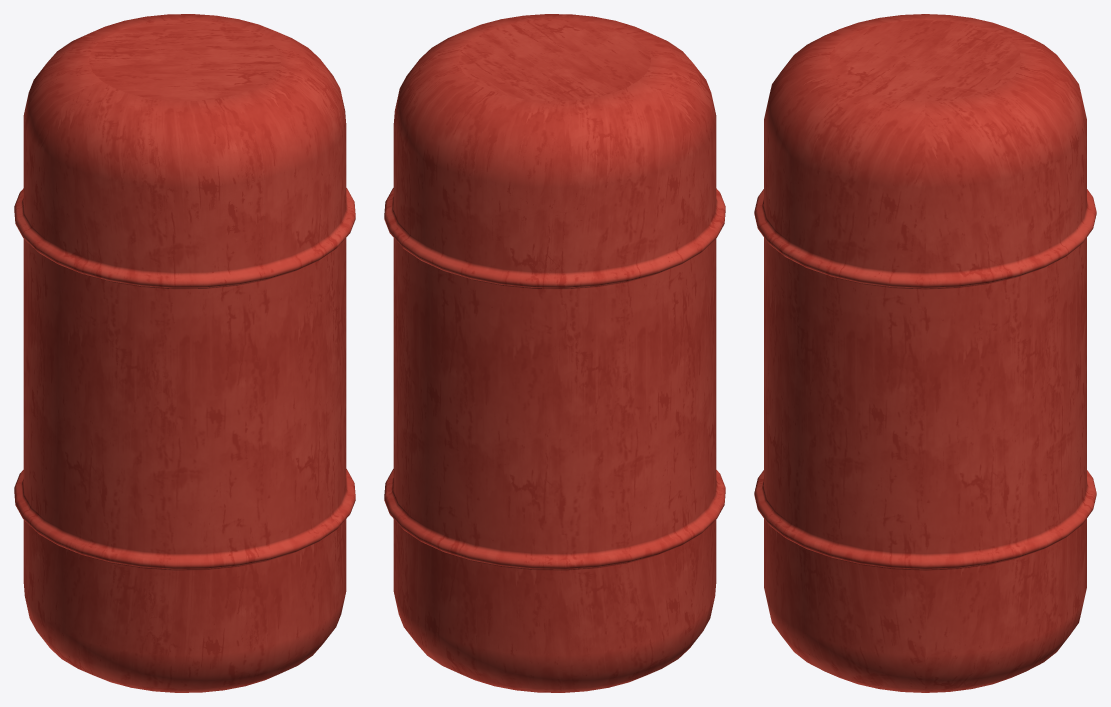
The model's file is barrelpainted_001.fbx.
3 views of the same model, side by side, from view 1: azimuth 30°, elevation 25°; view 2: azimuth 150°, elevation 25°; view 3: azimuth 270°, elevation 25° (orthographic).
Visible parts, largest first — view 1: barrelpainted_001; view 2: barrelpainted_001; view 3: barrelpainted_001.
Boxes of the visible parts, bbox=[...] form: barrelpainted_001: bbox=[14, 14, 355, 692]; barrelpainted_001: bbox=[384, 14, 725, 692]; barrelpainted_001: bbox=[754, 14, 1096, 692].
Bounding box in the file's own units: 2541 × 2541 × 4800.
